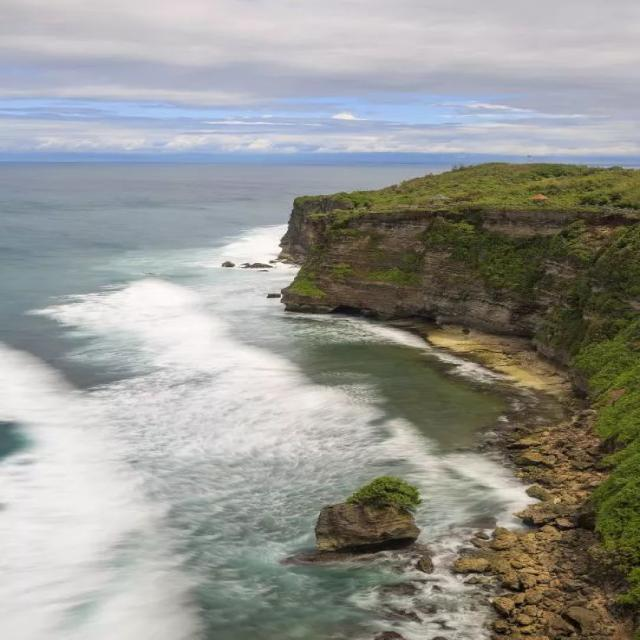reef: (355, 467, 586, 637)
